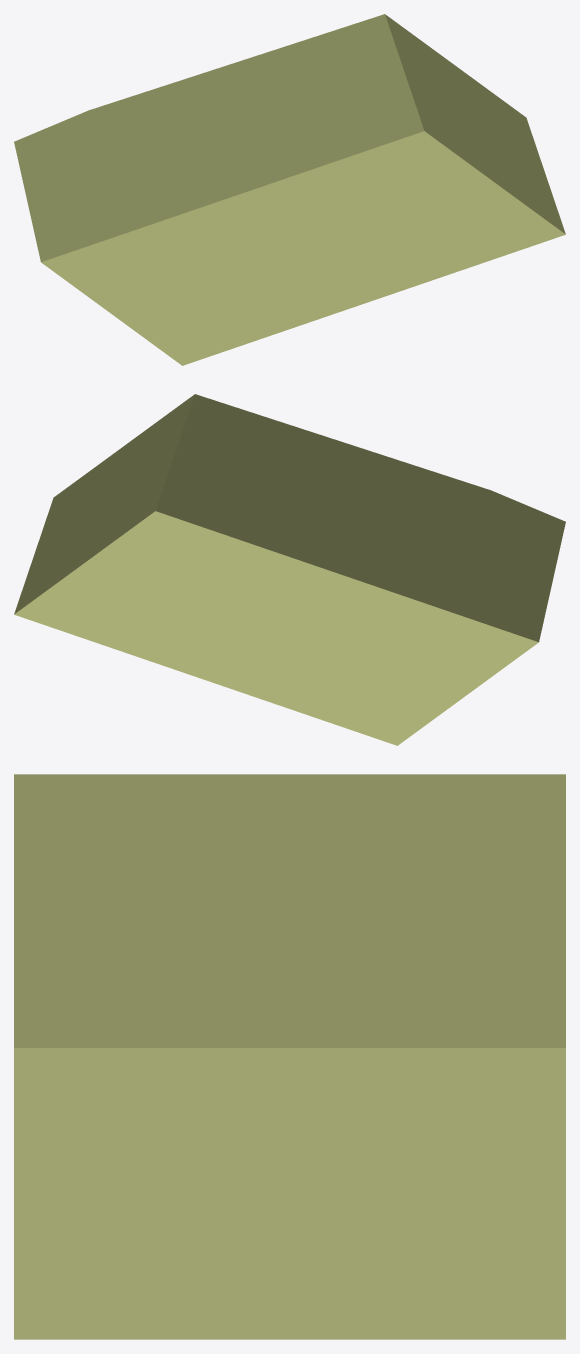
3 views of the same model, one above another, from view 1: azimuth 30°, elevation 25°; view 2: azimuth 150°, elevation 25°; view 3: azimuth 270°, elevation 25° (orthographic). The views are drawn at different scales.
Parts seen in each view (by area): view 1: 0_2_3_3_3_1_0_2_3_0_3; view 2: 0_2_3_3_3_1_0_2_3_0_3; view 3: 0_2_3_3_3_1_0_2_3_0_3.
Boxes of the visible parts, <box> form: 0_2_3_3_3_1_0_2_3_0_3: <box>14,14,565,365</box>; 0_2_3_3_3_1_0_2_3_0_3: <box>14,394,565,745</box>; 0_2_3_3_3_1_0_2_3_0_3: <box>14,774,565,1339</box>.
Size of the model in its own units: 10.05 by 3.85 by 6.
